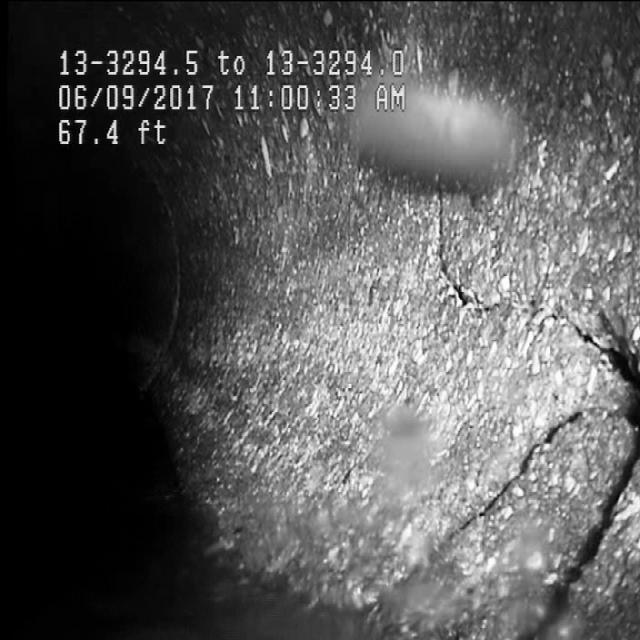Crack: (444, 235, 632, 528)
